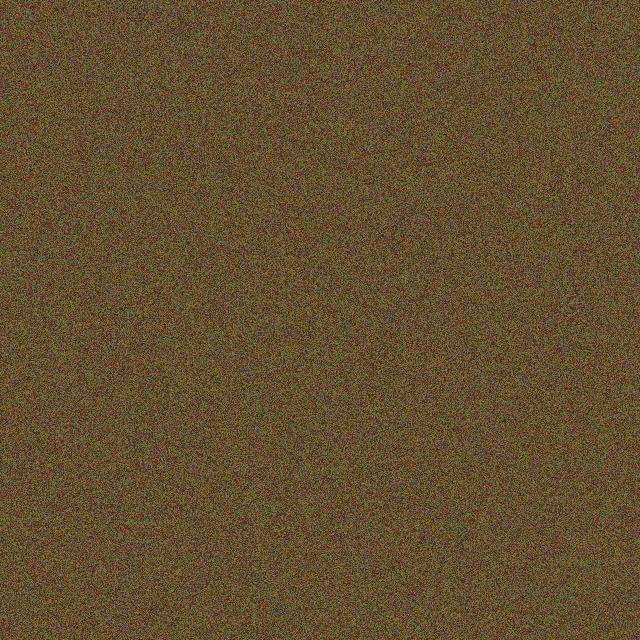metal_debris: (403, 126, 480, 222)
